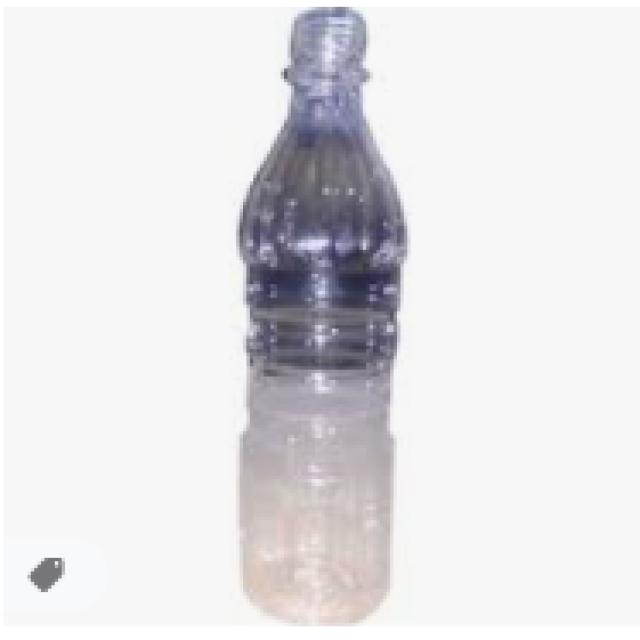plasticbottle: (249, 5, 406, 624)
